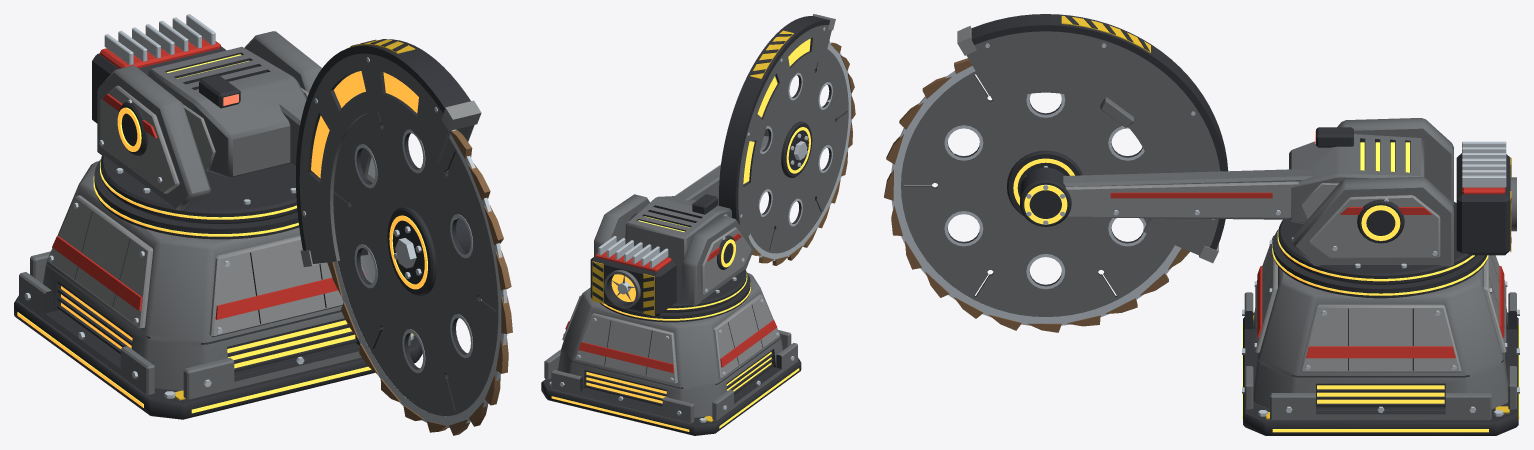
The model's file is R4W_RotarySaw.glb.
3 renders of one model, left to right at view 1: azimuth 30°, elevation 25°; view 2: azimuth 150°, elevation 25°; view 3: azimuth 270°, elevation 25°, orthographic. The views are drawn at different scales.
Visible parts, largest first — view 1: R4W_RotarySaw_Base, R4W_RotarySaw_Blade, R4W_RotarySaw_Pitch, R4W_RotarySaw_Yaw; view 2: R4W_RotarySaw_Base, R4W_RotarySaw_Blade, R4W_RotarySaw_Pitch, R4W_RotarySaw_Yaw; view 3: R4W_RotarySaw_Blade, R4W_RotarySaw_Base, R4W_RotarySaw_Pitch, R4W_RotarySaw_Yaw.
Boxes of the visible parts, x1,y1,x2,y2 form: R4W_RotarySaw_Base: (14, 159, 422, 419); R4W_RotarySaw_Blade: (319, 76, 512, 435); R4W_RotarySaw_Pitch: (148, 39, 481, 266); R4W_RotarySaw_Yaw: (92, 14, 321, 223); R4W_RotarySaw_Base: (541, 272, 801, 435); R4W_RotarySaw_Blade: (743, 40, 855, 265); R4W_RotarySaw_Pitch: (625, 14, 835, 273); R4W_RotarySaw_Yaw: (590, 194, 754, 316); R4W_RotarySaw_Blade: (884, 58, 1189, 332); R4W_RotarySaw_Base: (1242, 229, 1519, 435); R4W_RotarySaw_Pitch: (957, 14, 1424, 263); R4W_RotarySaw_Yaw: (1277, 118, 1516, 284).
Bounding box in the file's own units: 0.514 × 0.7336 × 1.18.
